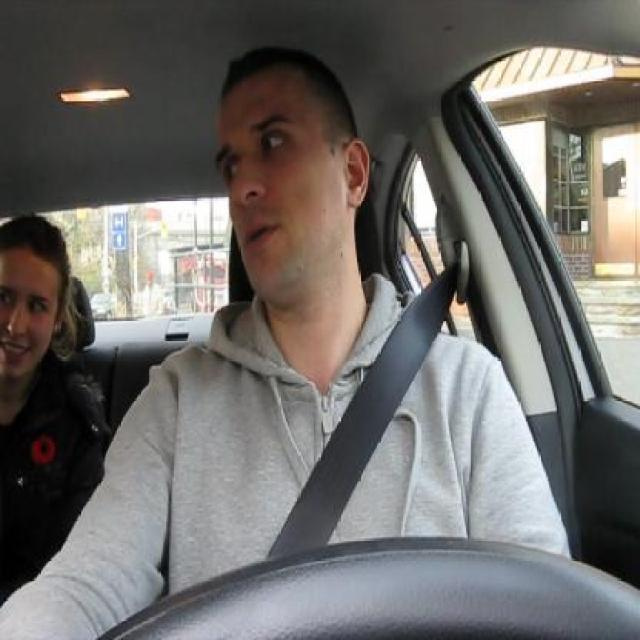Inattentive: (216, 45, 372, 311)
